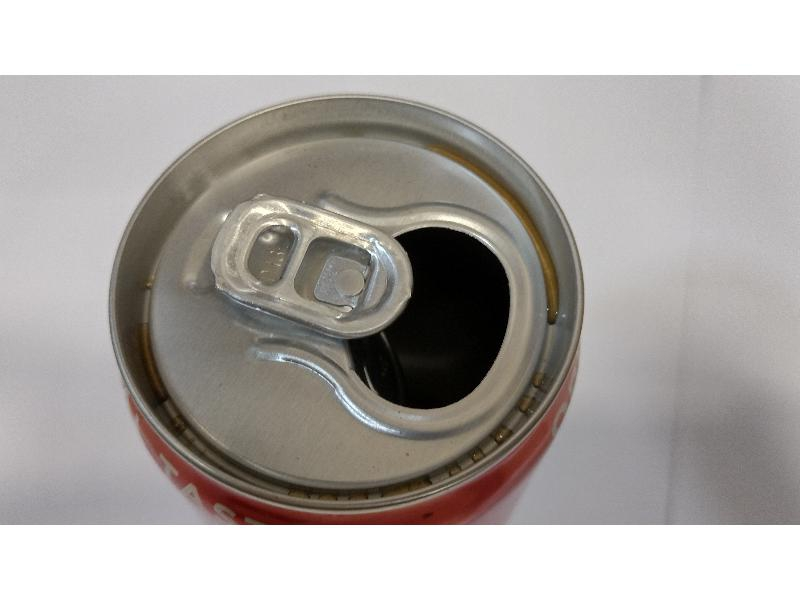can: (106, 92, 581, 520)
